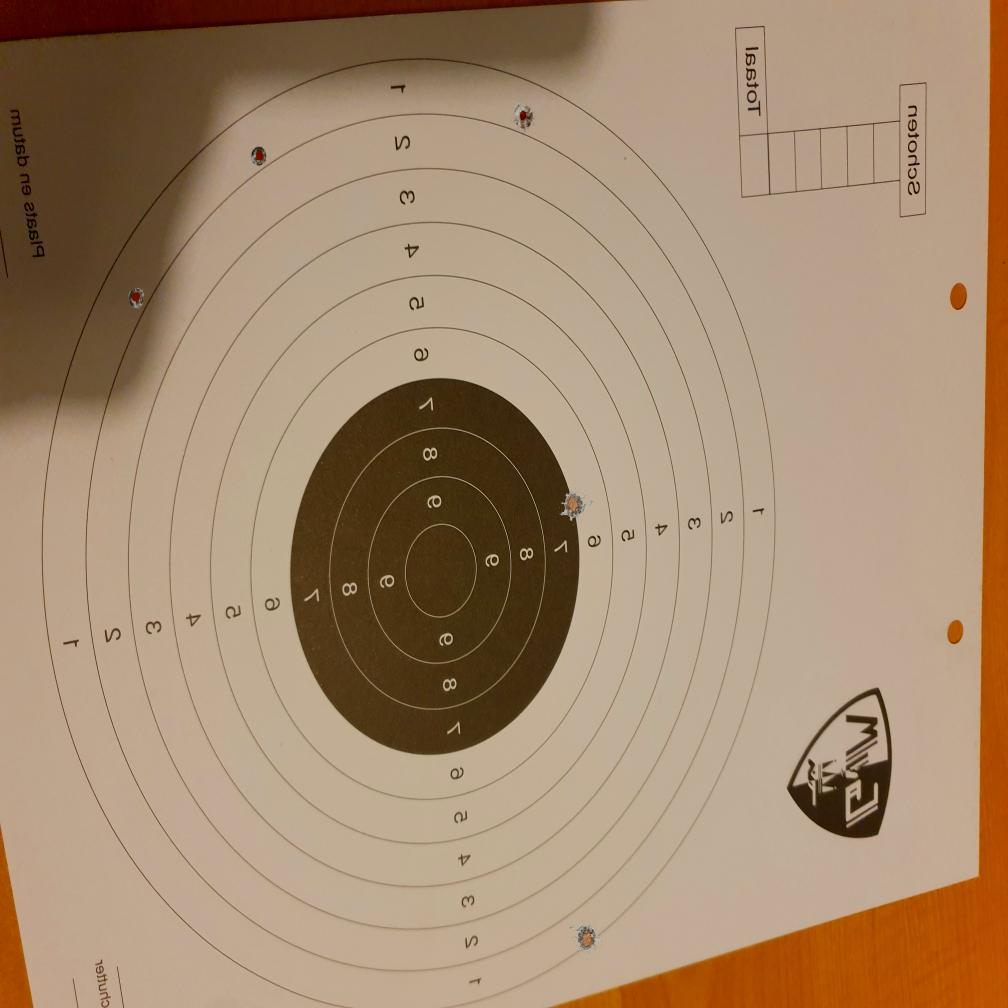1: (569, 922, 603, 956), (511, 99, 537, 136), (128, 286, 144, 311), (250, 145, 268, 167)
7: (560, 488, 593, 523)
Target: (40, 58, 774, 1002)
black_contour: (290, 378, 579, 756)
